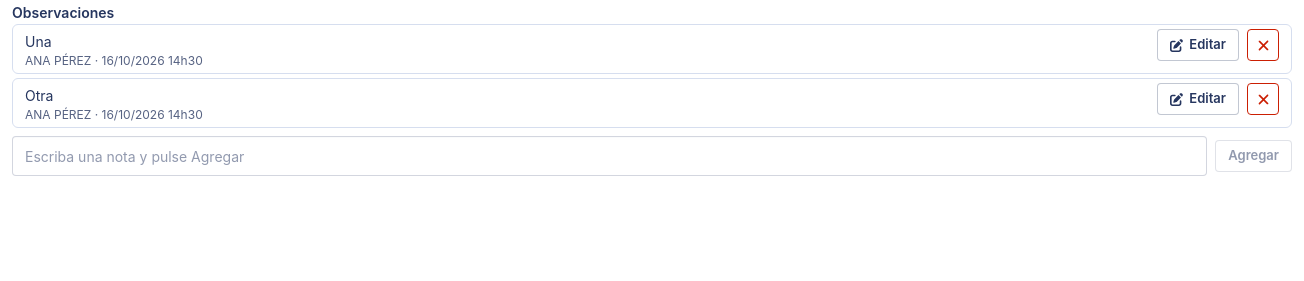
Test: ObservacionesOperativo · corregir una nota de la sesión › solo una nota se corrige a la vez
Step 1. Click the button with aria-label "Editar la nota: Una" → x=1198, y=45, box [1157, 29, 1239, 61]
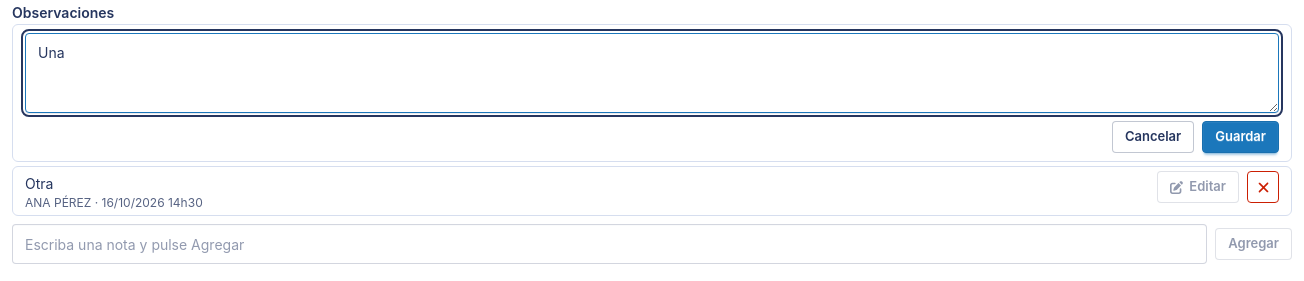
Expected: the number of text boxes named "Corregir la nota" is 1, [25, 33, 1279, 113]
